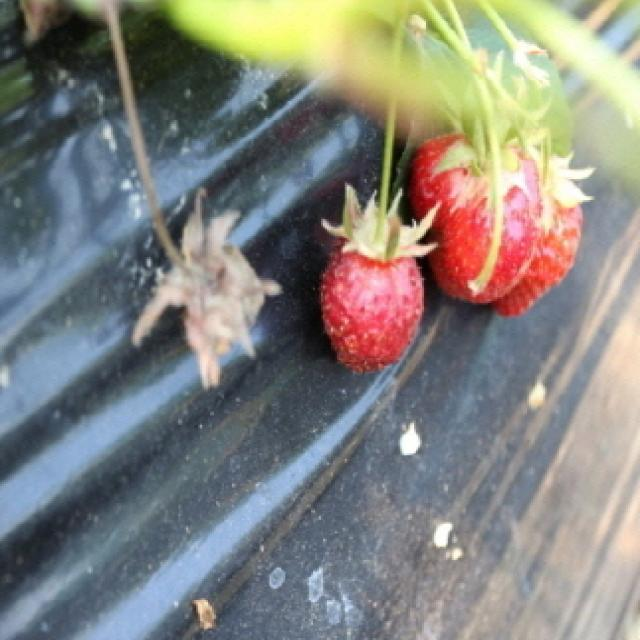Gray Mold: (133, 187, 284, 387)
